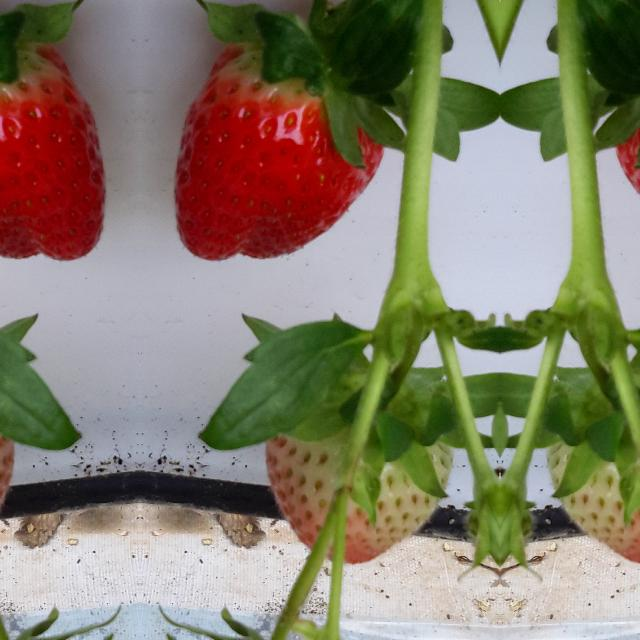Health_100: (172, 37, 384, 261), (0, 37, 108, 261)
Health_75: (260, 314, 452, 560), (548, 313, 640, 560)
